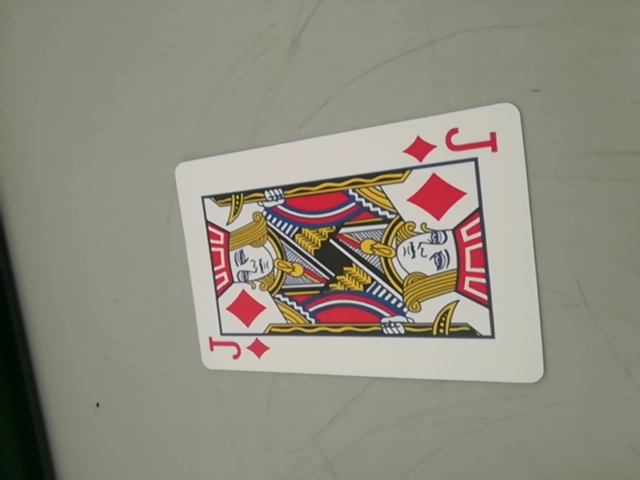fk j: (404, 122, 504, 164), (206, 332, 273, 368)
